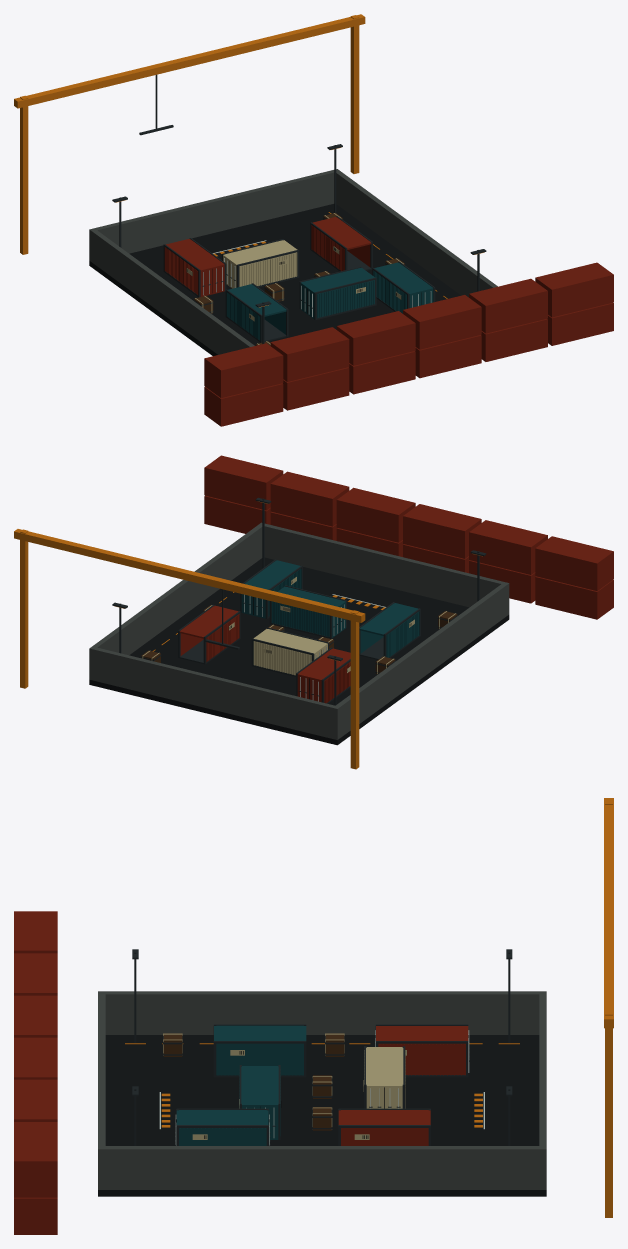
File: Terminal.obj
3 renders of one model, top to bottom at view 1: azimuth 30°, elevation 25°; view 2: azimuth 150°, elevation 25°; view 3: azimuth 270°, elevation 25°, orthographic. The views are drawn at different scales.
Parts seen in each view (by area): view 1: rust, concrete, asphalt, yellow, teal, steel, ivory, wood; view 2: rust, concrete, asphalt, yellow, teal, steel, ivory, wood; view 3: concrete, asphalt, rust, teal, steel, yellow, ivory, wood.
Part boxes in pixels (x1,y1,x2,y2): rust: (164, 217, 613, 426); concrete: (89, 169, 497, 354); asphalt: (89, 204, 460, 355); yellow: (14, 14, 447, 298); teal: (226, 262, 433, 340); steel: (112, 74, 486, 345); ivory: (186, 213, 403, 344); wood: (194, 213, 404, 345); rust: (179, 455, 613, 703); concrete: (89, 522, 509, 739); asphalt: (89, 557, 509, 745); yellow: (14, 529, 385, 769); teal: (241, 560, 419, 657); steel: (112, 497, 486, 705); ivory: (142, 577, 455, 675); wood: (141, 605, 457, 674); concrete: (98, 991, 546, 1189); asphalt: (98, 1035, 546, 1196); rust: (14, 911, 468, 1234); teal: (176, 1025, 306, 1145); steel: (132, 949, 512, 1145); yellow: (125, 798, 613, 1217); ivory: (163, 1033, 406, 1139); wood: (163, 1033, 344, 1130).
Size of the model in its own units: 47.5 by 18.6 by 48.15.
